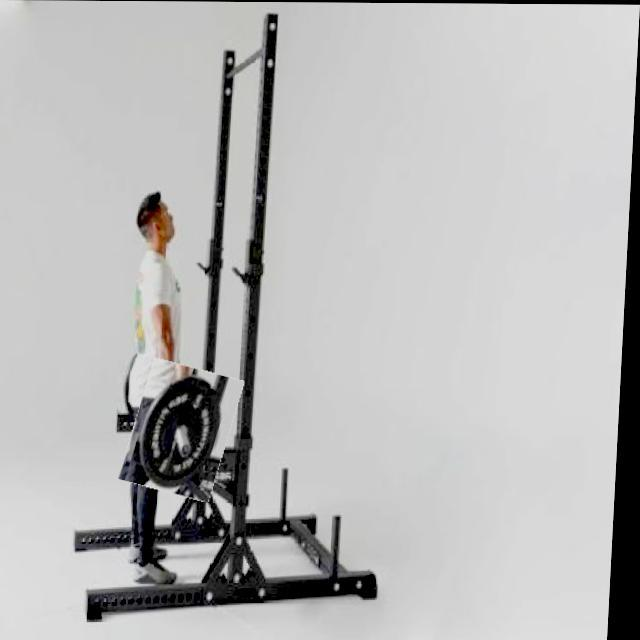barbell: (130, 363, 243, 498)
